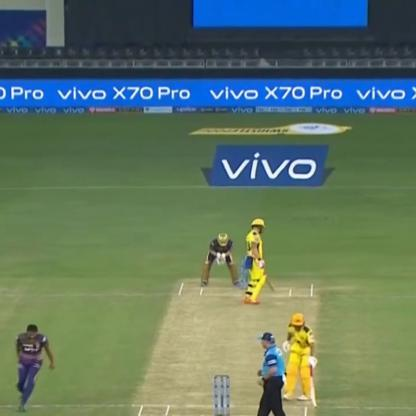pitch: (130, 272, 318, 415)
